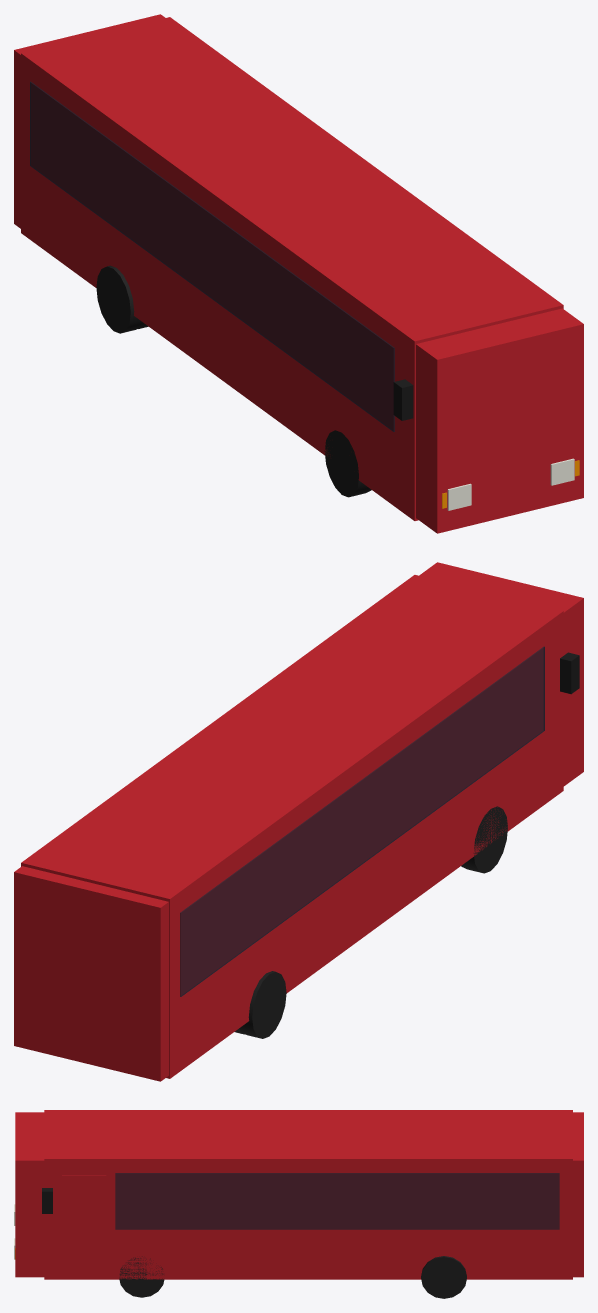
The model's file is IndianIntercityCoach_12M.obj.
The picture shows the model from 3 angles, top to bottom: view 1: azimuth 30°, elevation 25°; view 2: azimuth 150°, elevation 25°; view 3: azimuth 270°, elevation 25°; orthographic projection. The views are drawn at different scales.
Parts seen in each view (by area): view 1: Exterior_Body, Exterior_Front, Exterior_Windows_Left, Exterior_Rear, Wheels_RearLeftOuter, Wheels_FrontLeft, Exterior_Mirrors_Left; view 2: Exterior_Body, Exterior_Windows_Left, Exterior_Rear, Exterior_Front, Wheels_RearLeftOuter, Wheels_FrontLeft, Exterior_Mirrors_Left; view 3: Exterior_Body, Exterior_Windows_Right, Exterior_Front, Exterior_Doors, Exterior_Rear, Wheels_RearRightOuter, Wheels_FrontRight, Exterior_Mirrors_Right.
Part boxes in pixels (x1,y1,x2,y2): Exterior_Body: (21,17,563,520); Exterior_Front: (416,308,583,533); Exterior_Windows_Left: (30,81,394,431); Exterior_Rear: (14,14,165,228); Wheels_RearLeftOuter: (96,265,143,333); Wheels_FrontLeft: (324,430,371,497); Exterior_Mirrors_Left: (393,379,413,420); Exterior_Body: (21,575,563,1078); Exterior_Windows_Left: (180,646,544,996); Exterior_Rear: (14,866,168,1081); Exterior_Front: (419,562,583,786); Wheels_RearLeftOuter: (239,971,286,1038); Wheels_FrontLeft: (461,806,507,873); Exterior_Mirrors_Left: (560,652,579,694); Exterior_Body: (44,1110,572,1279); Exterior_Windows_Right: (115,1173,559,1229); Exterior_Front: (15,1112,44,1277); Exterior_Doors: (62,1175,106,1275); Exterior_Rear: (573,1112,583,1277); Wheels_RearRightOuter: (421,1256,466,1298); Wheels_FrontRight: (119,1256,164,1297); Exterior_Mirrors_Right: (42,1188,52,1213).
Bounding box in the file's own units: 3.1 × 3.45 × 12.83.
